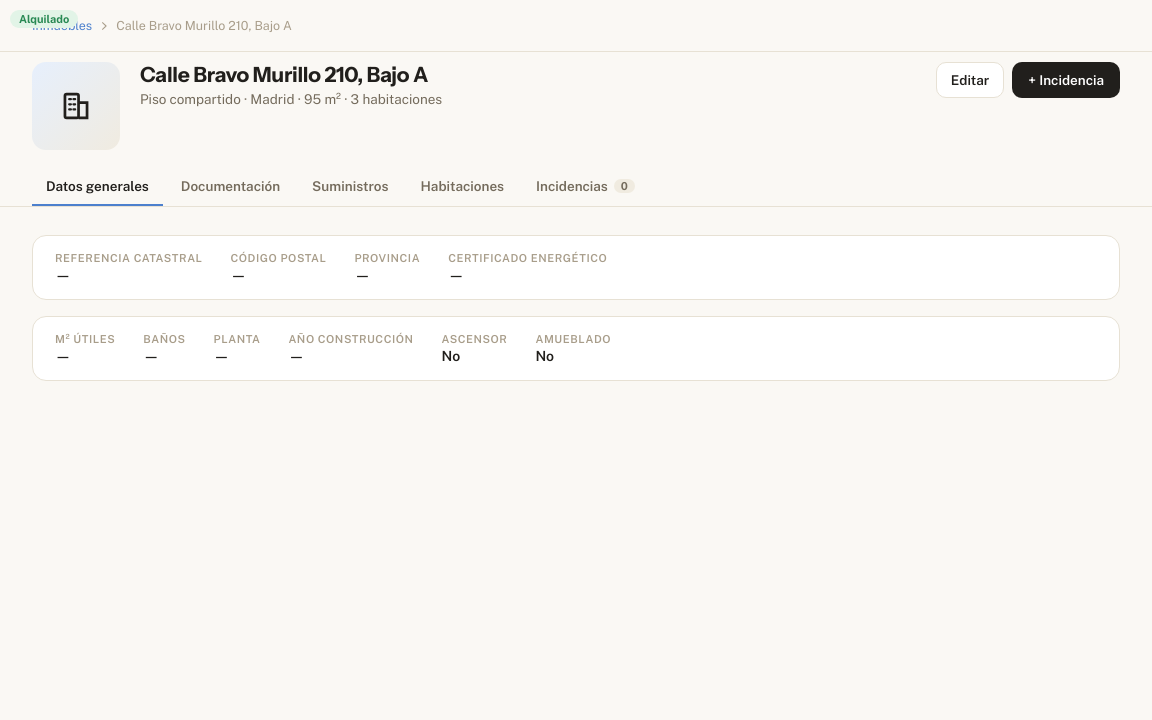
InmueblesFicha — Habitaciones › en un inmueble compartido, deja la habitación creada visible al momento, sin ocupante
Expected: the heading "Calle Bravo Murillo 210, Bajo A" is shown, [140,62,428,87]
Click the button "Habitaciones" at (462, 187), box [406,168,518,206]
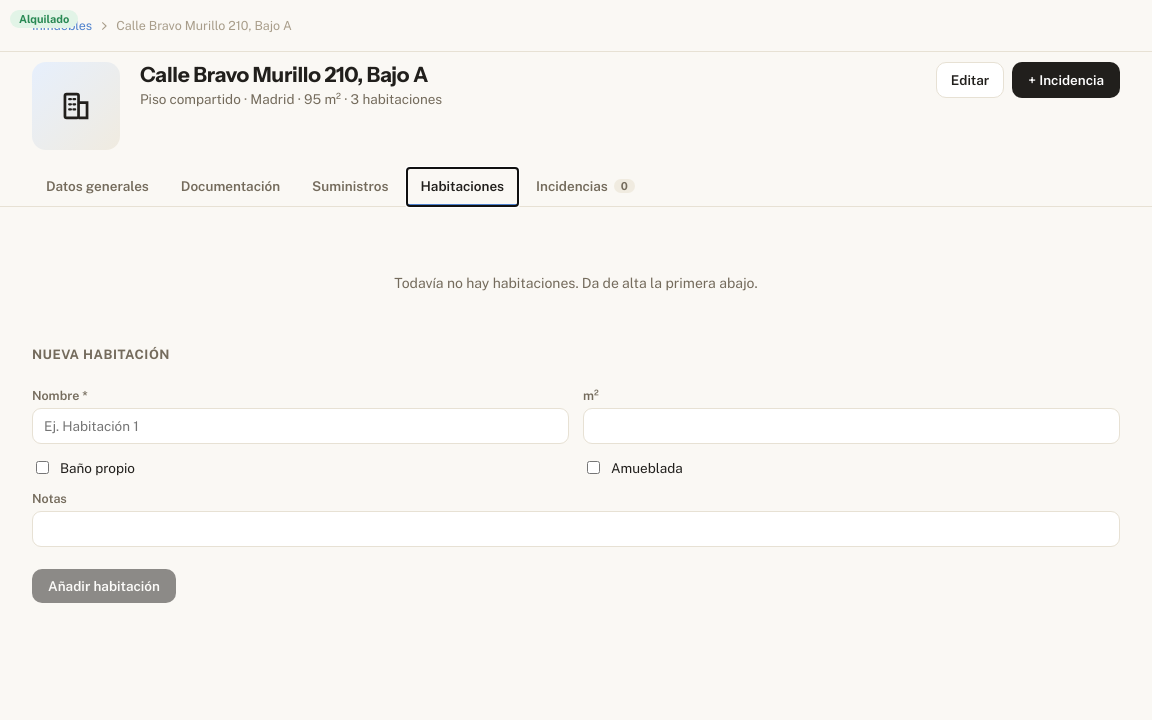
Expected: the text "Todavía no hay habitaciones. Da de alta la primera abajo." is shown, [394,275,758,291]
Type "Habitación 1" into the field labelled "Nombre *" at (300, 426), box [32,408,569,444]
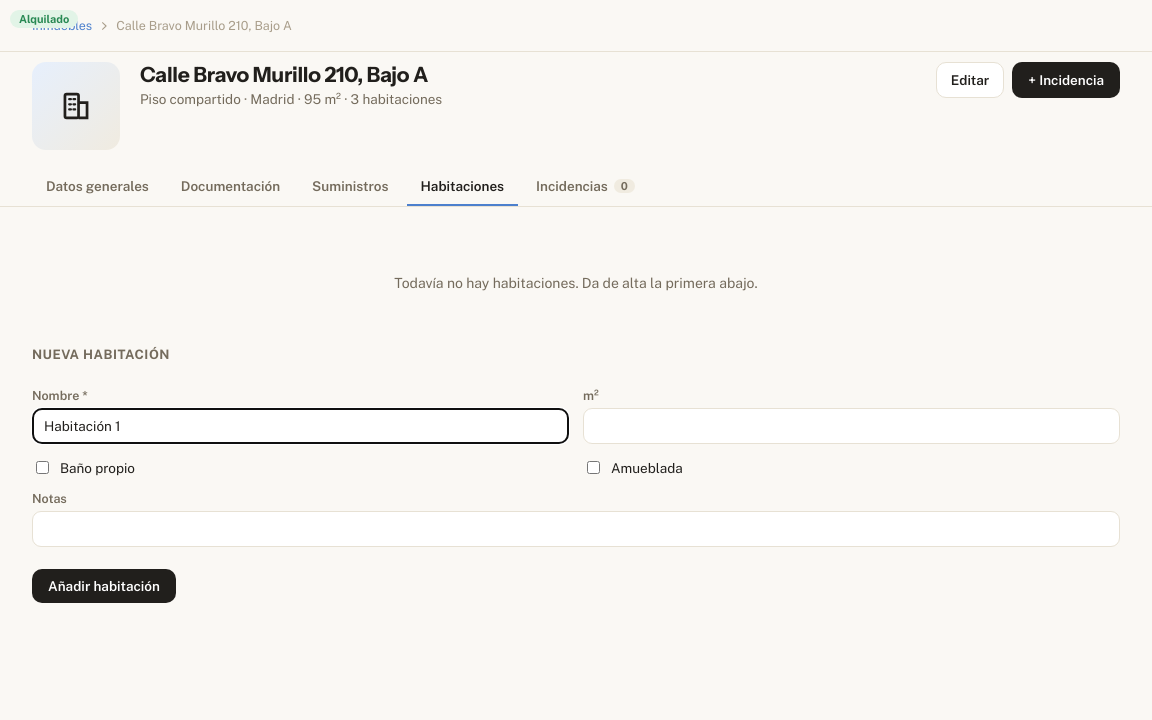
Click the button "Añadir habitación" at (104, 586), box [32,569,176,603]
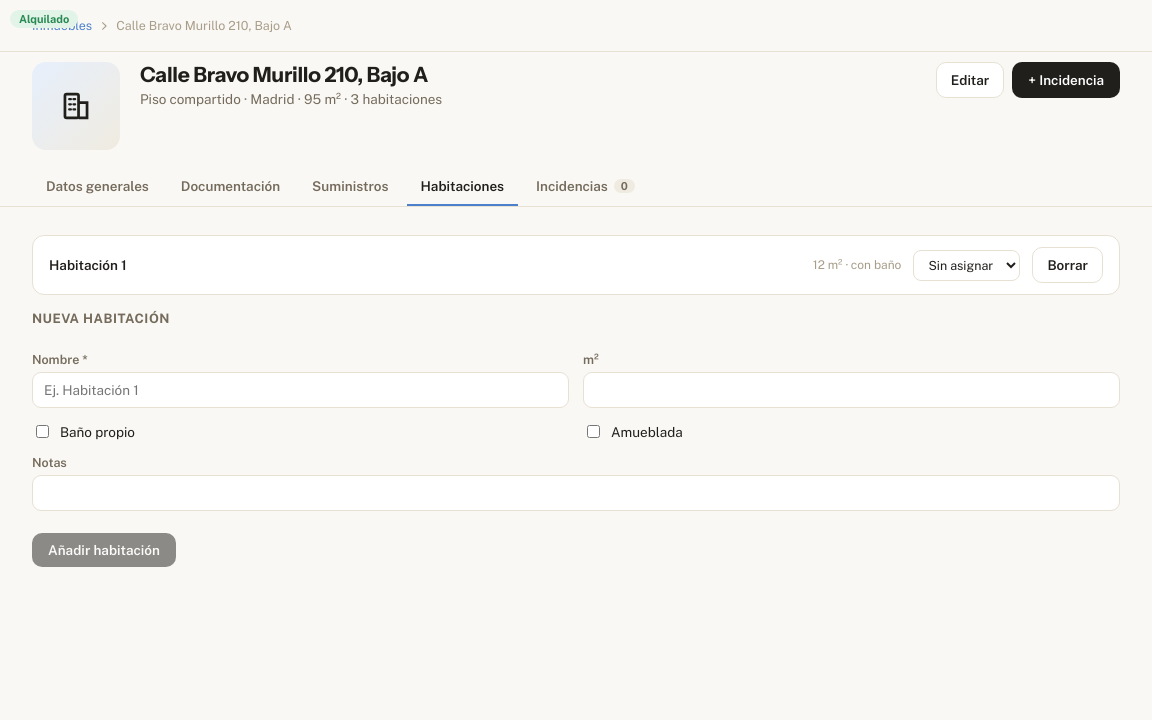
Expected: the text "Habitación 1" is shown, [49,257,127,273]
Expected: the dropdown named "ocupante de habitación 1" shows "Sin asignar", [913,250,1020,280]
